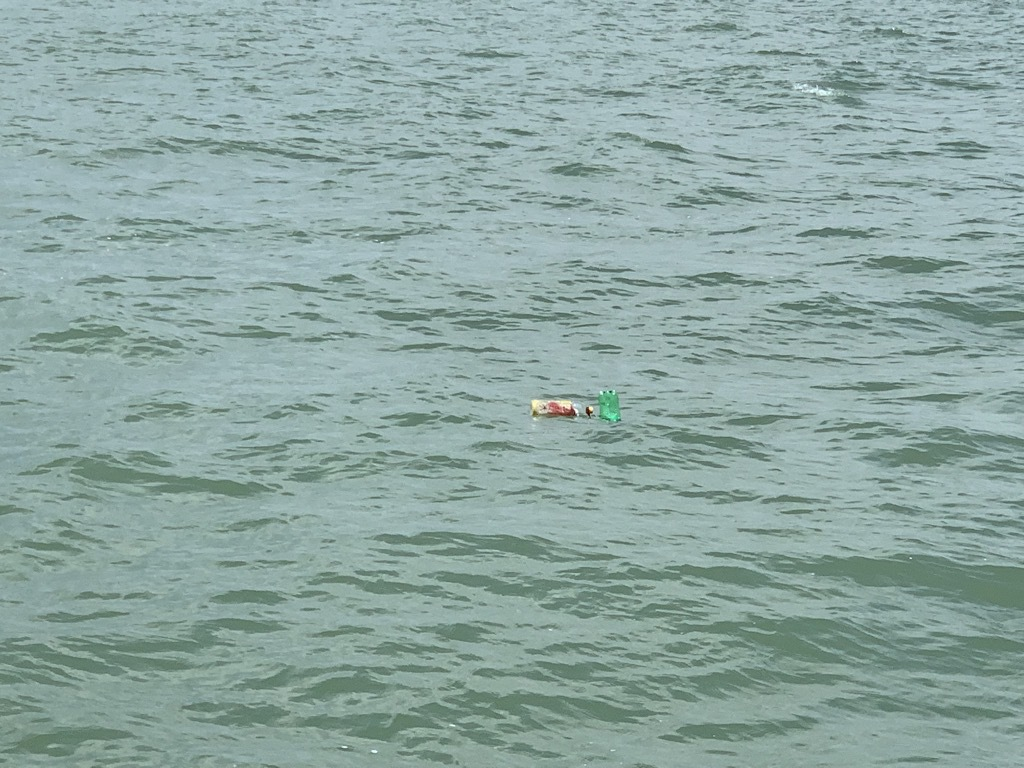plastic: (510, 374, 587, 433), (580, 364, 639, 436)
